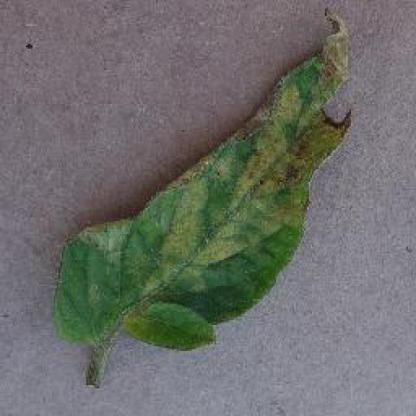Tomato_Leaf_Mold: (55, 12, 351, 343)
